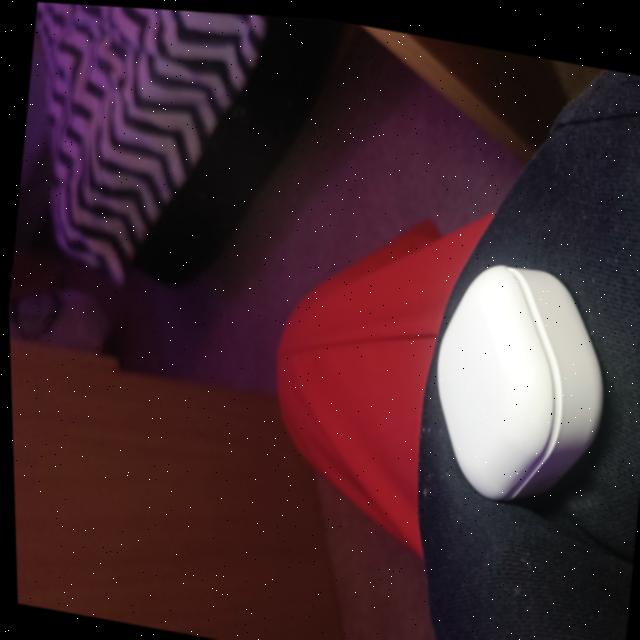headphones: (434, 257, 600, 493)
